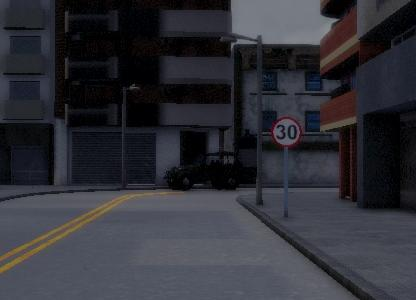Speed_30: (272, 117, 303, 148)
